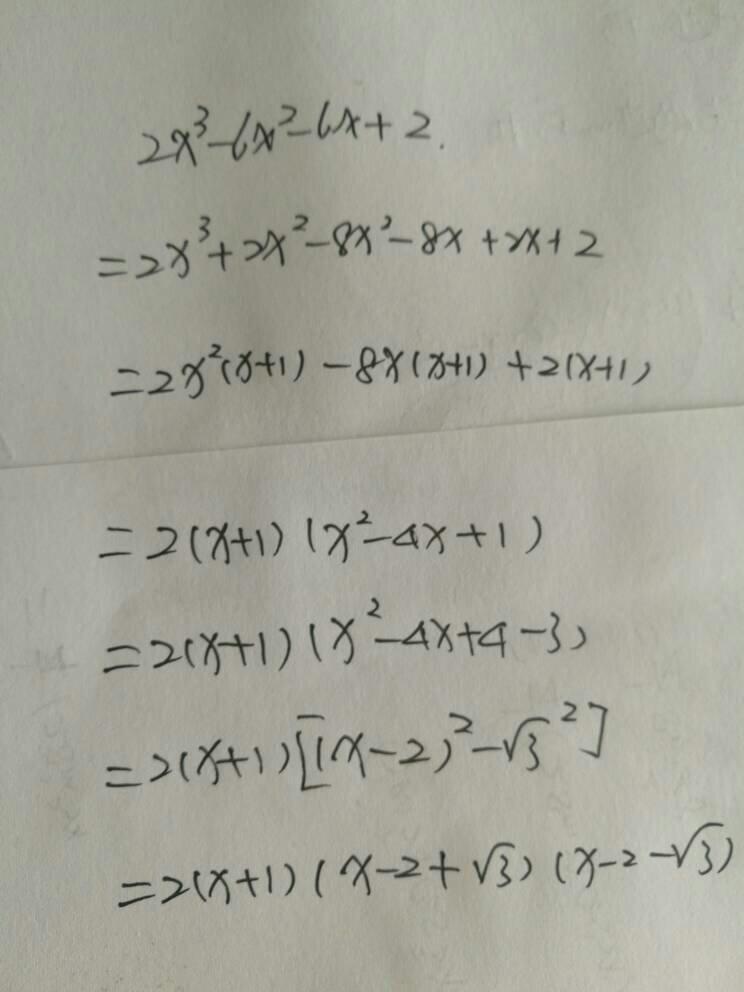cube: (192, 96, 207, 140), (193, 209, 211, 242)
